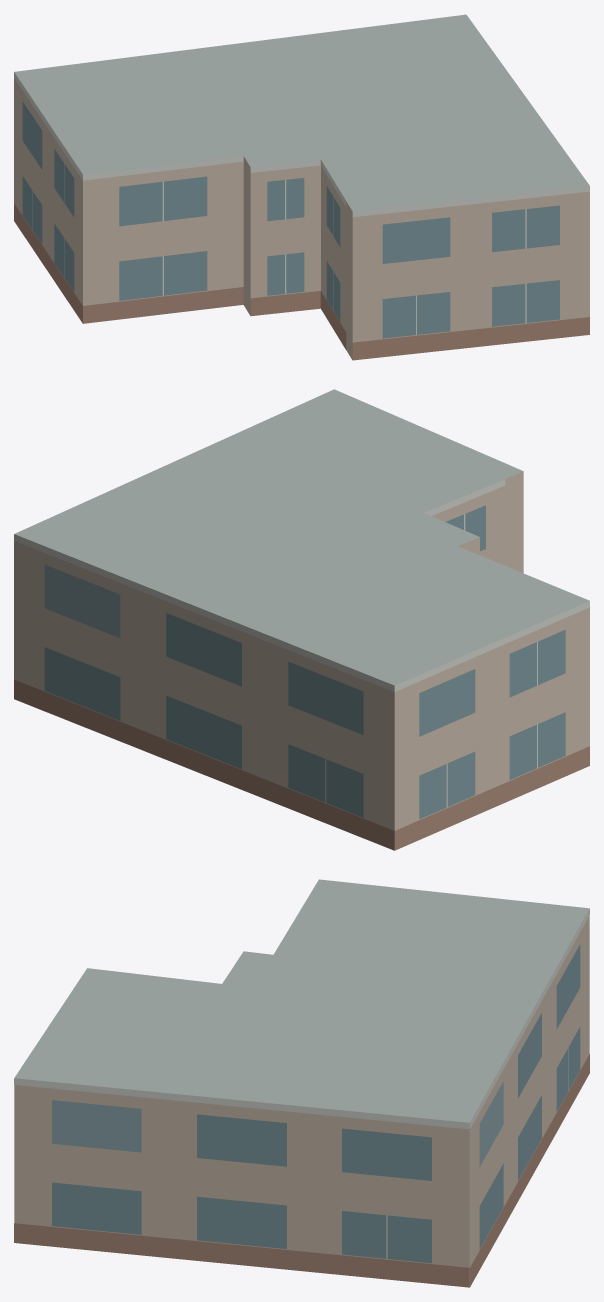
The model's file is survey-upis-32528105.glb.
3 views of the same model, one above another, from view 1: azimuth 30°, elevation 25°; view 2: azimuth 150°, elevation 25°; view 3: azimuth 270°, elevation 25° (orthographic). The views are drawn at different scales.
Parts seen in each view (by area): view 1: survey-upis-32528105.tmp; view 2: survey-upis-32528105.tmp; view 3: survey-upis-32528105.tmp.
Part boxes in pixels (x1,y1,x2,y2): survey-upis-32528105.tmp: [14, 14, 589, 360]; survey-upis-32528105.tmp: [14, 389, 589, 850]; survey-upis-32528105.tmp: [14, 879, 589, 1287].
Bounding box in the file's own units: 19.35 × 6.1 × 19.33.
